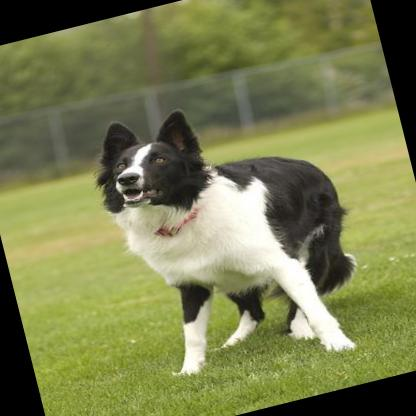Border_collie: (77, 70, 372, 398)
